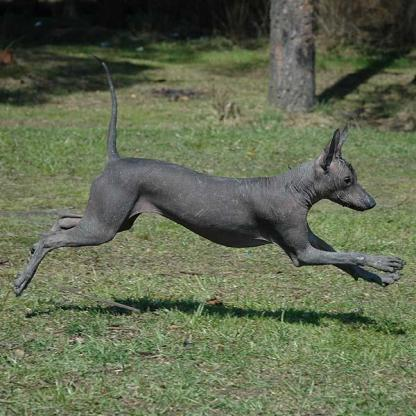Mexican_hairless: (6, 55, 404, 301)
